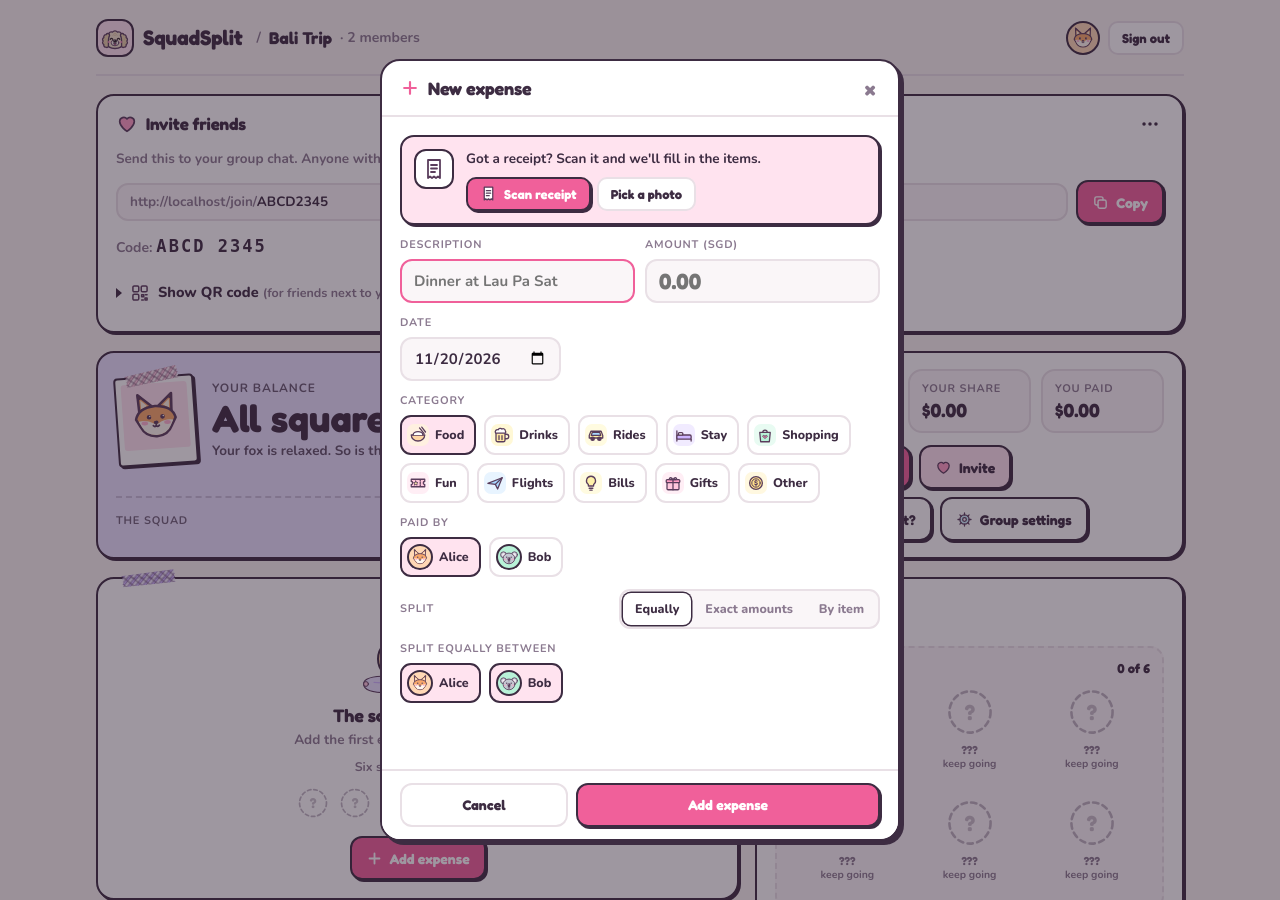
Test case: the expense dialog › opens again, still asking, when the browser closes it past the question (a second Escape or Back)
Type "Dinner" into the field labelled "Description" at (518, 281), box [400, 259, 635, 303]
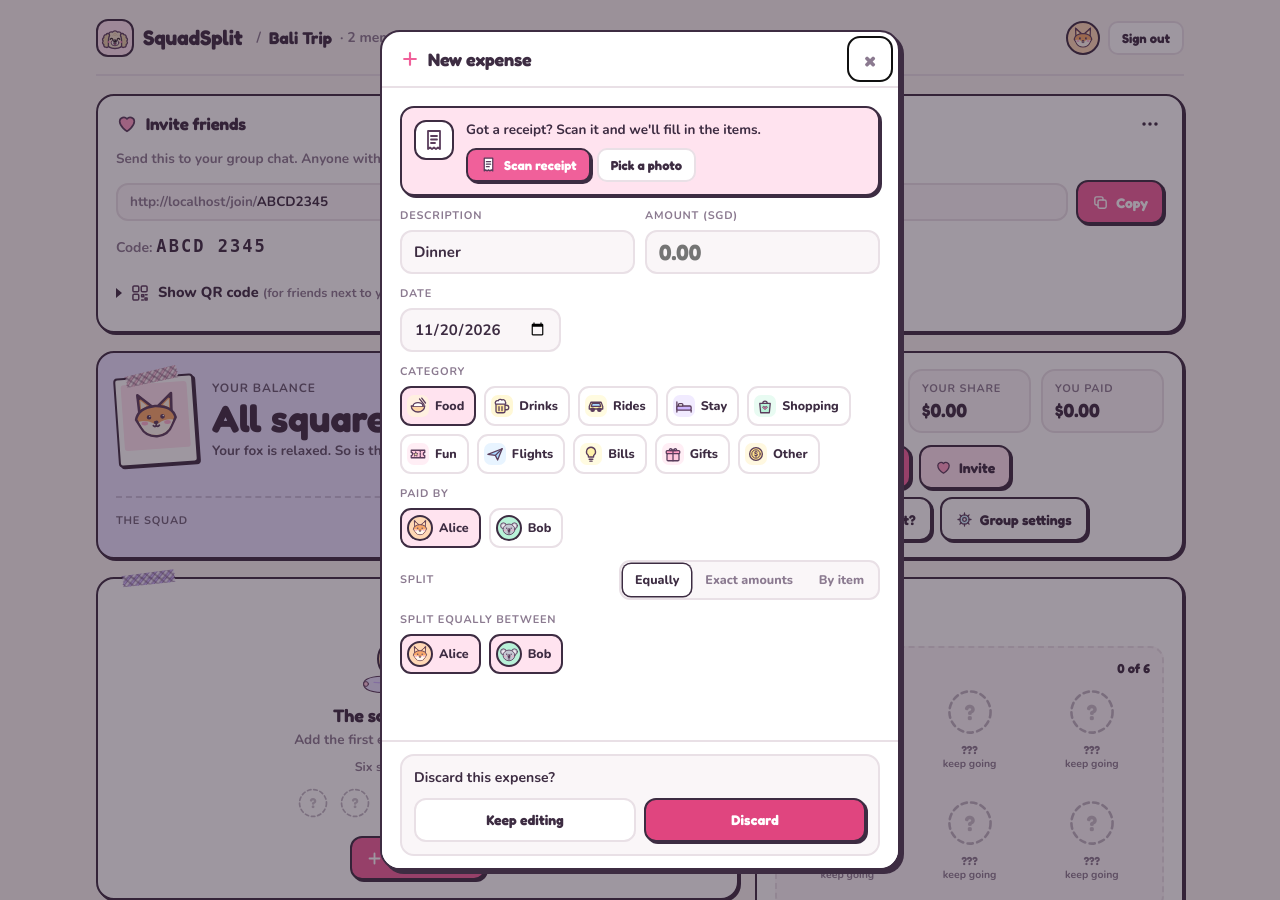
Result: the element "Discard this expense?" is shown at [400, 754, 880, 856]
